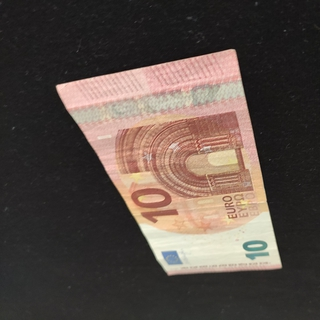10EUROFront: (55, 48, 282, 275)
